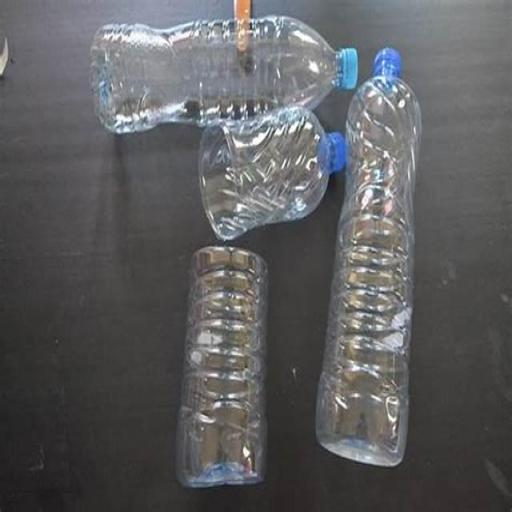plastic bottle: (314, 73, 422, 468), (92, 14, 343, 136), (174, 246, 269, 487), (197, 108, 333, 242)
plastic bottle cap: (374, 48, 402, 74), (329, 130, 346, 172), (342, 48, 358, 90)
